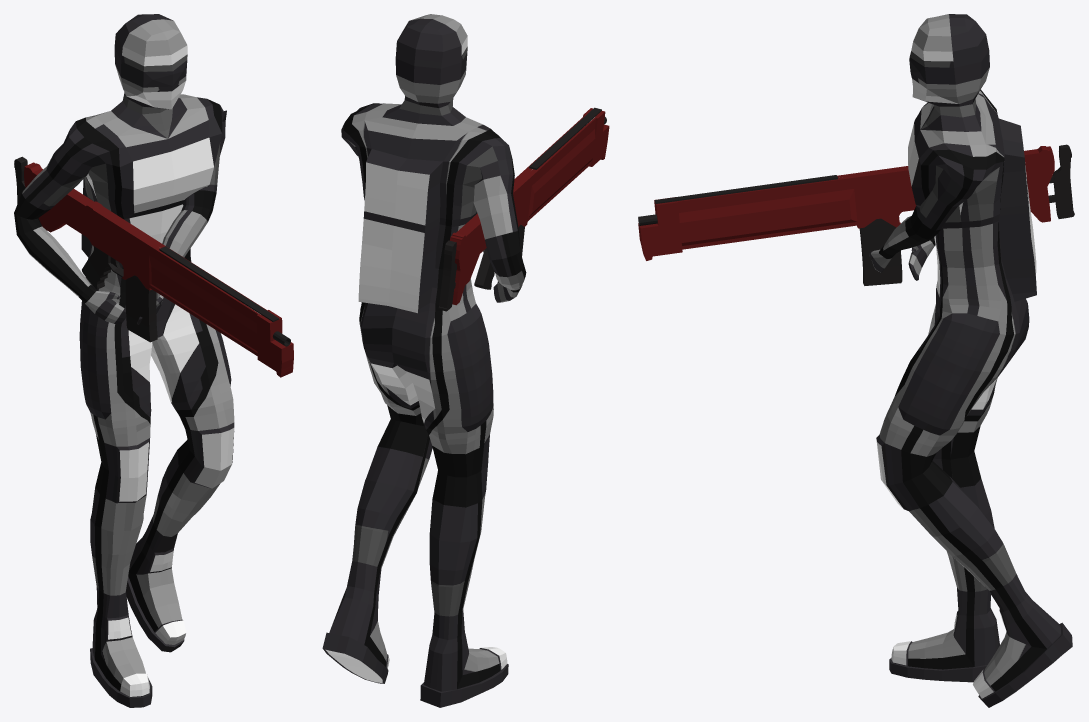
File: SCR5.obj
3 views of the same model, side by side, from view 1: azimuth 30°, elevation 25°; view 2: azimuth 150°, elevation 25°; view 3: azimuth 270°, elevation 25° (orthographic). The views are drawn at different scales.
Visible parts, largest first — view 1: metarig_object_metarig_mesh, Cube.001; view 2: metarig_object_metarig_mesh, Cube.001; view 3: metarig_object_metarig_mesh, Cube.001.
Part boxes in pixels (bbox=[...]): metarig_object_metarig_mesh: bbox=[14, 14, 234, 707]; Cube.001: bbox=[14, 156, 293, 377]; metarig_object_metarig_mesh: bbox=[322, 14, 526, 707]; Cube.001: bbox=[438, 107, 609, 311]; metarig_object_metarig_mesh: bbox=[869, 14, 1072, 707]; Cube.001: bbox=[638, 144, 1074, 285].
Bounding box in the file's own units: 0.4678 × 1.54 × 0.9066.
Materials: 2 (2 with a texture image).
